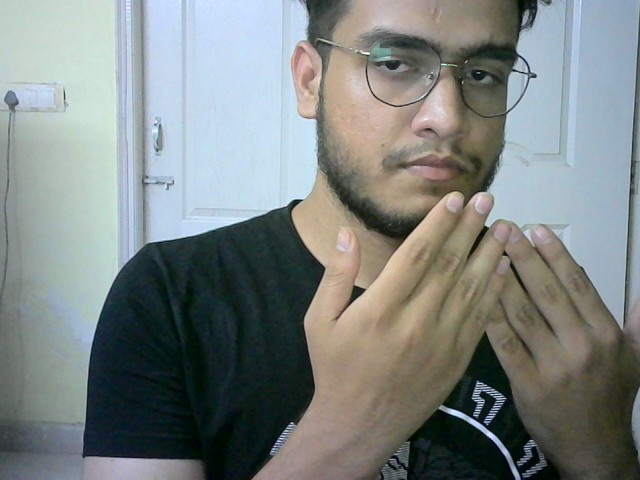Thank You: (294, 180, 640, 424)
